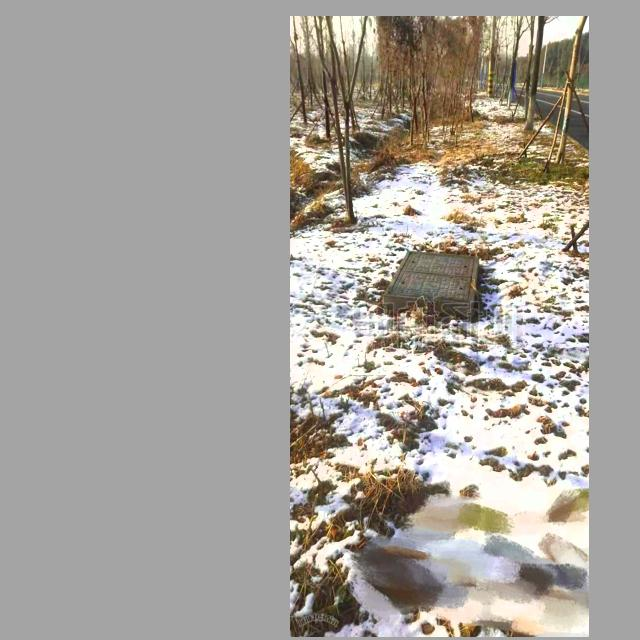circle: (377, 250, 484, 326)
